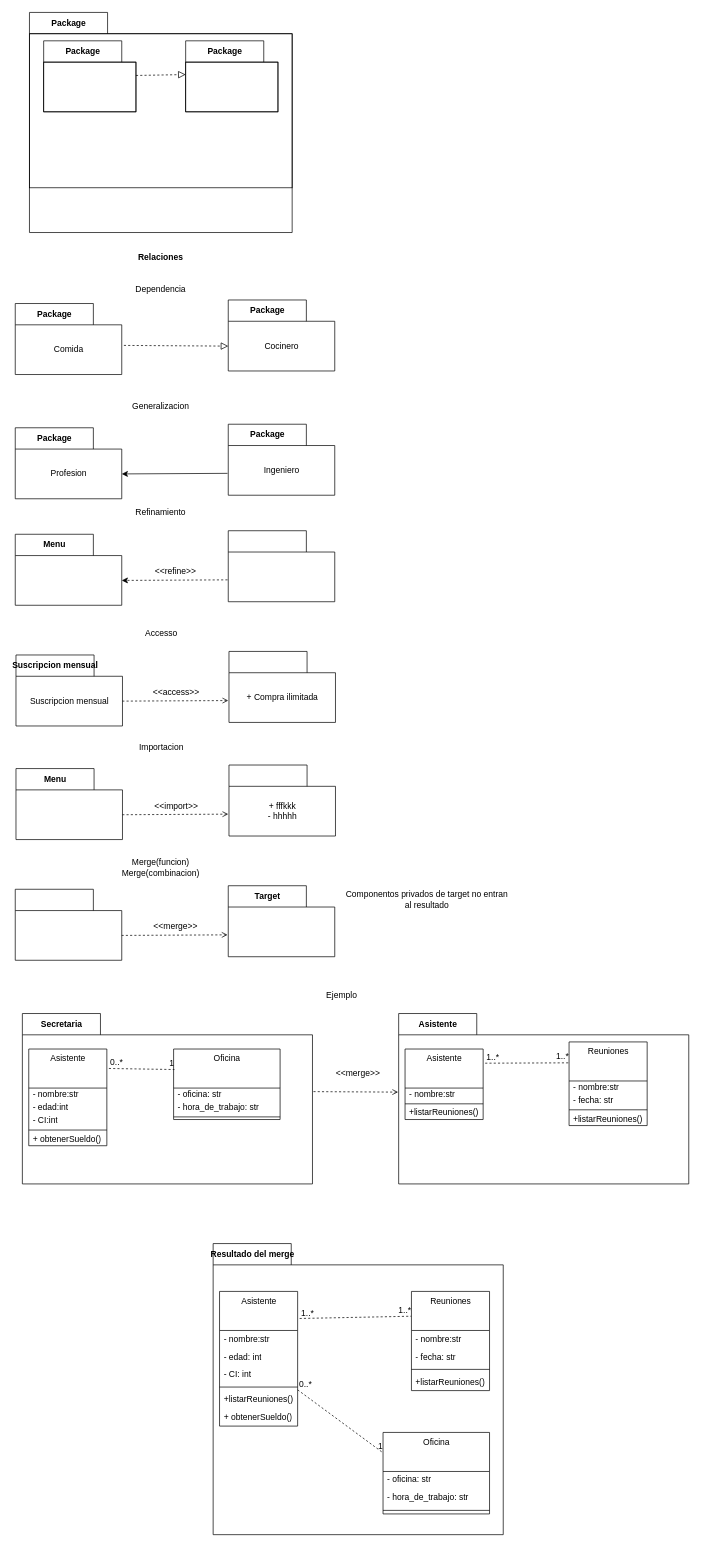
Image size: 701x1547. Some labels were removed from this diagram. The centre of each missing label's shape, as x and y in pixels:
"Beneficios" goes at pixel 281 686.
"Menu 2.0" goes at pixel 281 566.
"Producto" goes at pixel 281 800.
"Source" goes at pixel 68 924.
